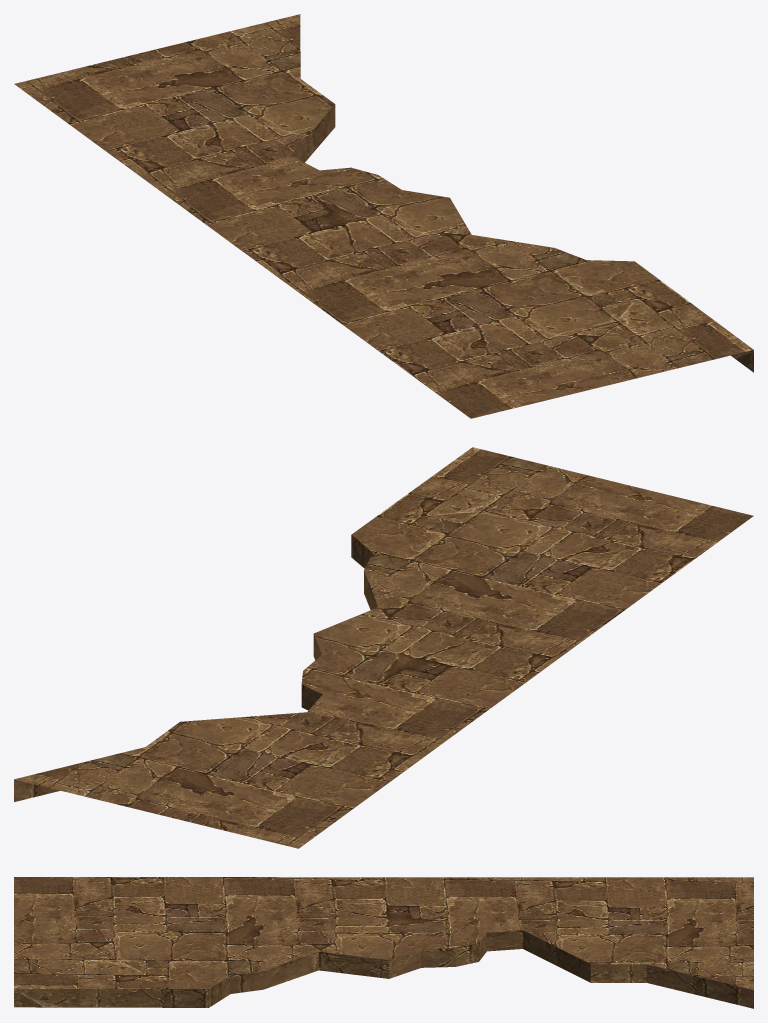
The model's file is Scene_R_dimian_02.FBX.
The picture shows the model from 3 angles, top to bottom: view 1: azimuth 30°, elevation 25°; view 2: azimuth 150°, elevation 25°; view 3: azimuth 270°, elevation 25°; orthographic projection. The views are drawn at different scales.
Visible parts, largest first — view 1: Scene_R_dimian_02; view 2: Scene_R_dimian_02; view 3: Scene_R_dimian_02.
Part boxes in pixels (<box>): Scene_R_dimian_02: <box>14,14,753,418</box>; Scene_R_dimian_02: <box>14,447,753,848</box>; Scene_R_dimian_02: <box>14,877,753,1008</box>.
Size of the model in its own units: 9.61 by 0.7382 by 26.56.
